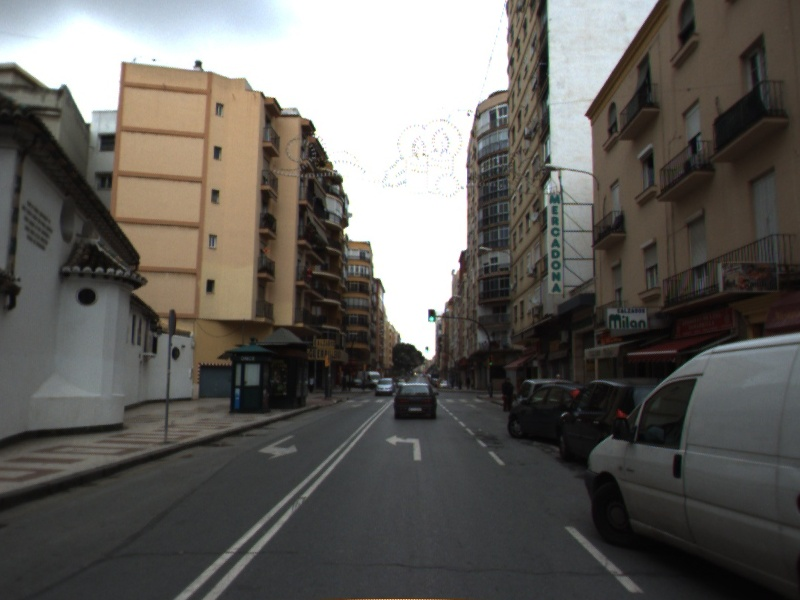LEFT: (384, 433, 423, 462)
